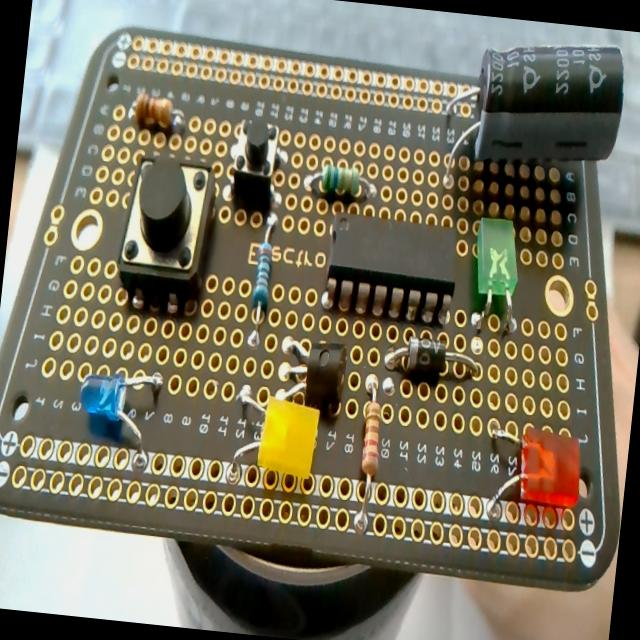Electrolytic capacitor: (427, 27, 636, 202)
IC: (316, 206, 464, 320)
diode: (381, 333, 481, 384)
led: (474, 421, 584, 521), (226, 382, 327, 482), (70, 356, 164, 451), (464, 212, 532, 334)
resistor: (349, 375, 388, 532), (244, 214, 278, 344), (299, 157, 383, 202), (133, 92, 186, 136)
switch: (112, 147, 220, 316), (222, 117, 285, 217)
transistor: (277, 336, 349, 414)
